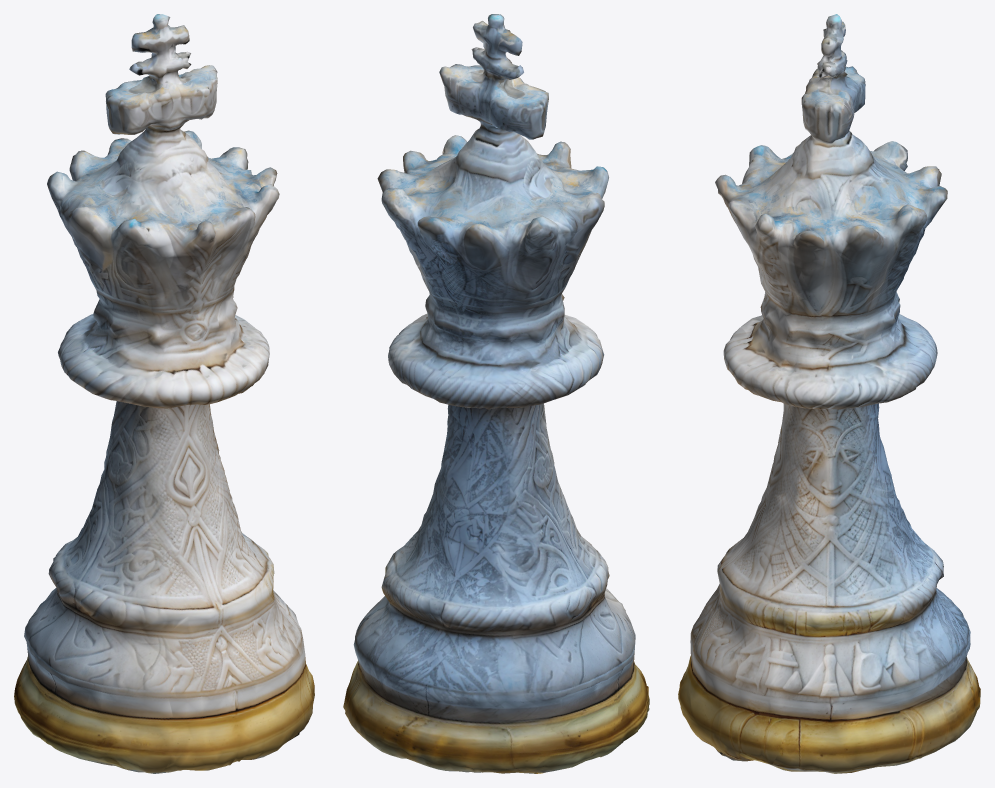
The model's file is chess.glb.
3 views of the same model, side by side, from view 1: azimuth 30°, elevation 25°; view 2: azimuth 150°, elevation 25°; view 3: azimuth 270°, elevation 25° (orthographic).
Bounding box in the file's own units: 0.4515 × 1.2 × 0.453.
1 material, 1 textured.
